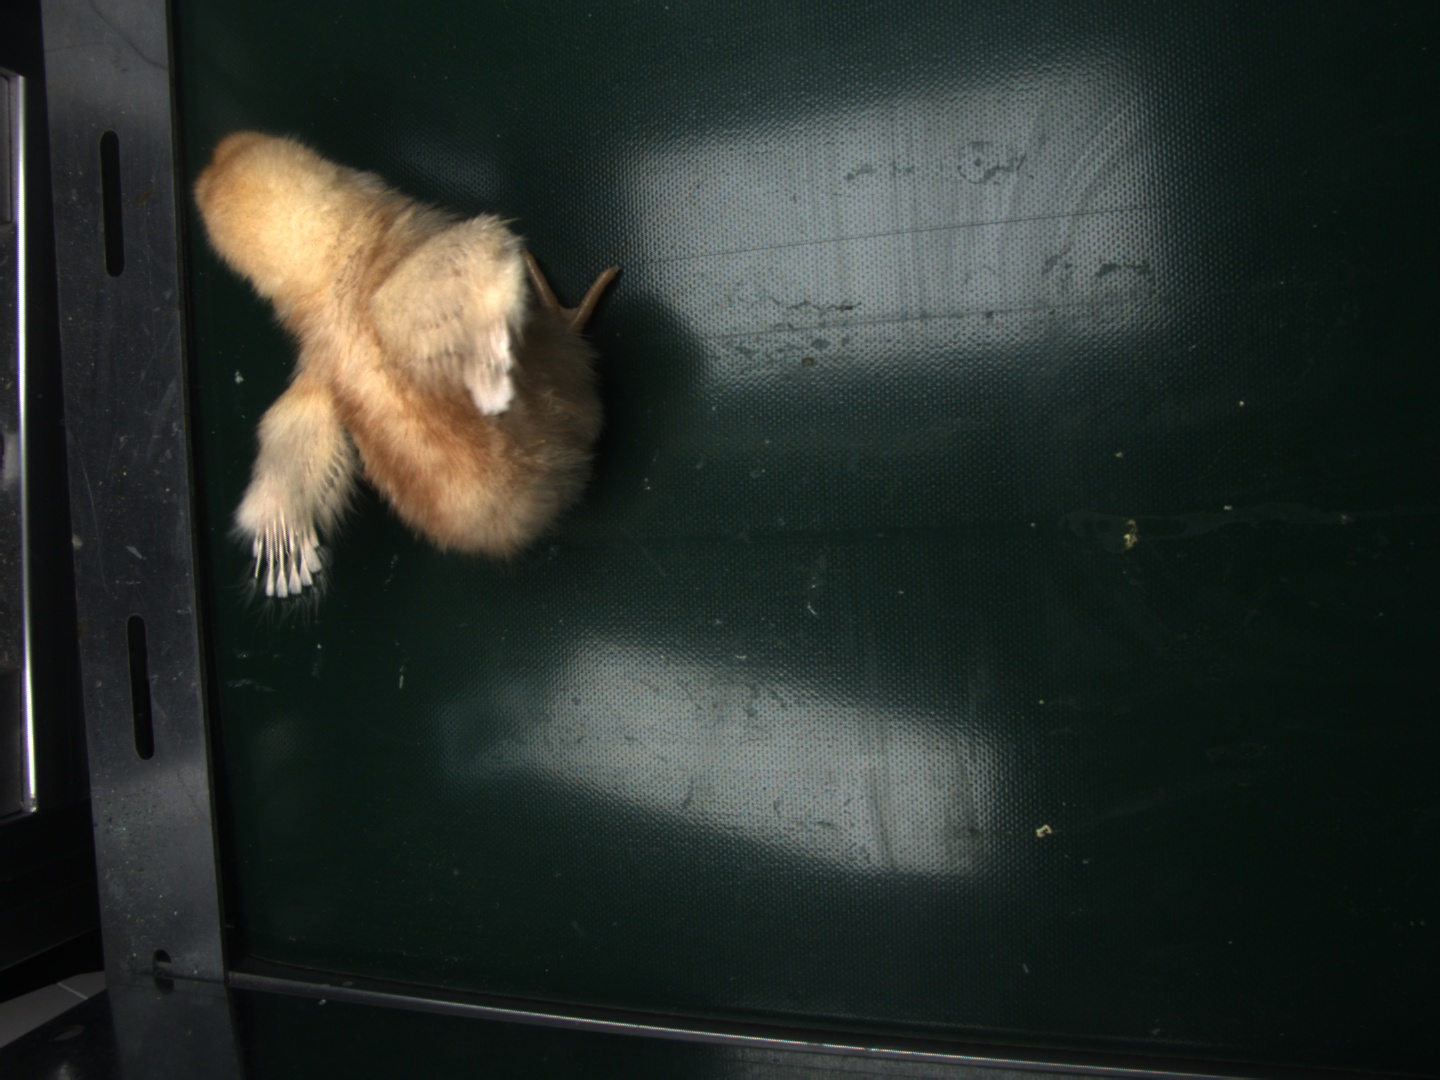female: (251, 521, 321, 597)
